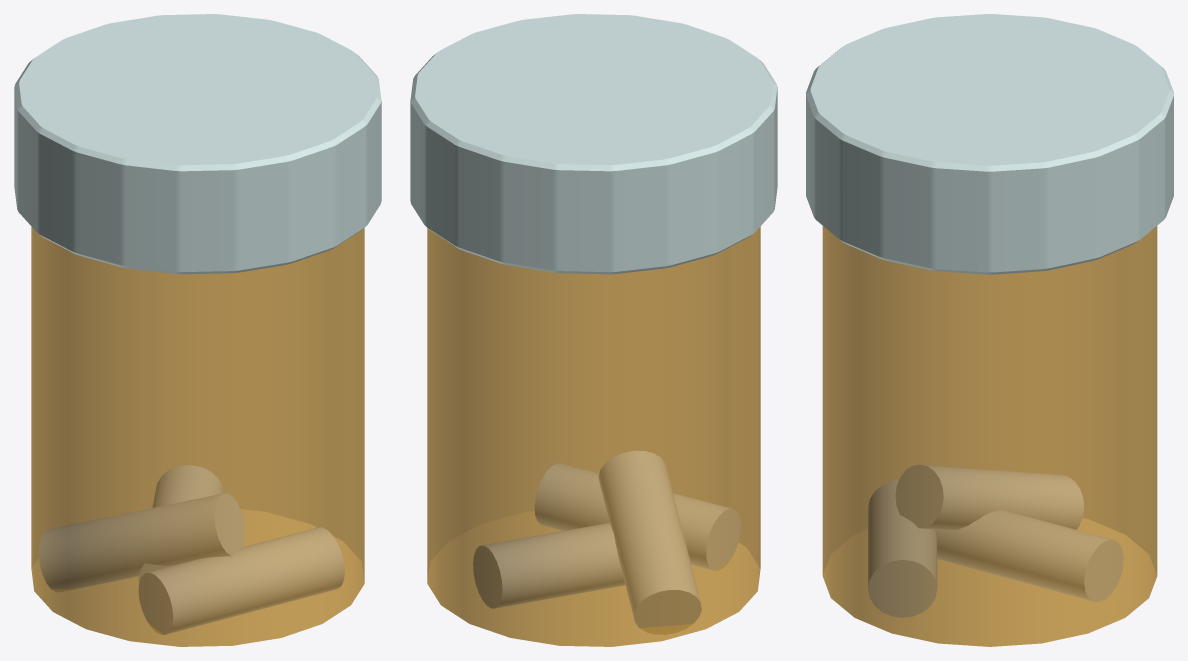
Rendered from Medicine_Bottle.fbx.
3 views of the same model, side by side, from view 1: azimuth 30°, elevation 25°; view 2: azimuth 150°, elevation 25°; view 3: azimuth 270°, elevation 25° (orthographic).
Parts seen in each view (by area): view 1: LID1; view 2: LID1; view 3: LID1.
Boxes of the visible parts, bbox=[...] form: LID1: bbox=[14, 14, 381, 646]; LID1: bbox=[410, 14, 777, 646]; LID1: bbox=[806, 14, 1173, 646].
Size of the model in its own units: 2.2 by 3.28 by 2.2.
